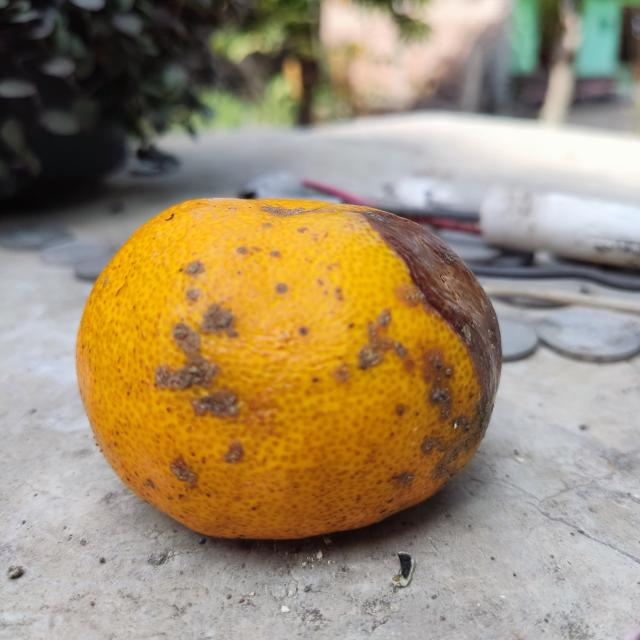orange: (74, 196, 502, 537)
